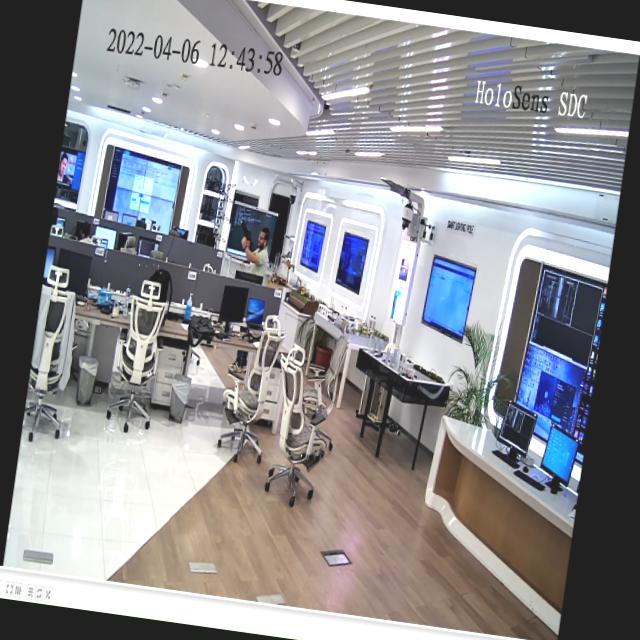long weapon: (237, 217, 258, 255)
